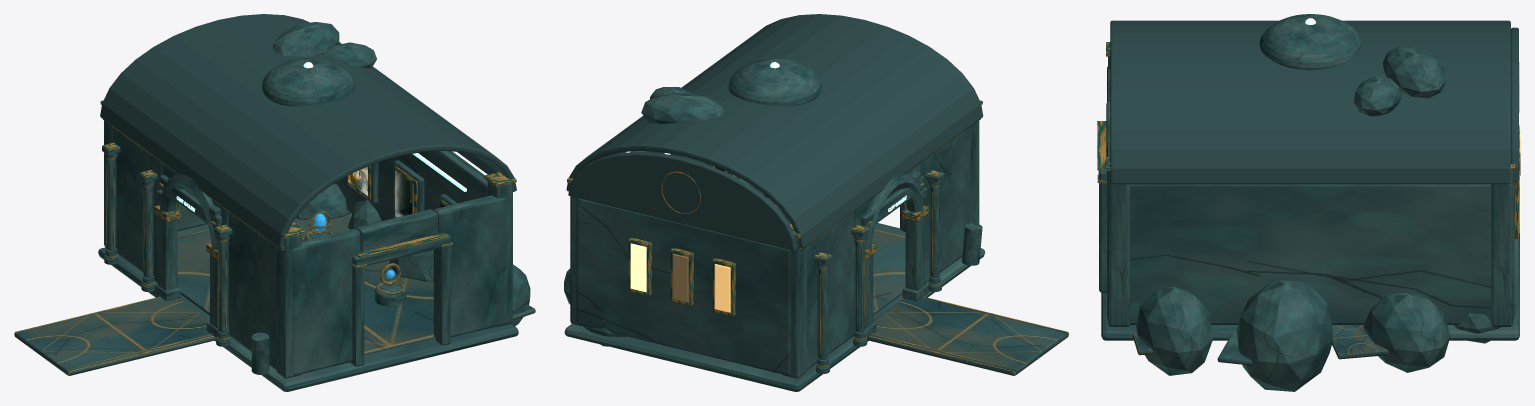
File: atlantis-cliff-gallery.glb
3 renders of one model, left to right at view 1: azimuth 30°, elevation 25°; view 2: azimuth 150°, elevation 25°; view 3: azimuth 270°, elevation 25°, orthographic. The views are drawn at different scales.
Parts seen in each view (by area): view 1: CliffGallery_BarrelRoof, CliffGallery_Bridge, CliffGallery_RearWallSegment_0, CliffGallery_RearWallSegment_1, CliffGallery_InteriorFloor, CliffGallery_FacadePier_0, CliffGallery_Foundation, CliffGallery_RearWall, CliffGallery_FacadePier_1, CliffGallery_LanternDome, ColumnShaft_mesh (×3), CliffGallery_CornerButtress_00 (+20 smaller); view 2: CliffGallery_BarrelRoof, CliffGallery_SideWall_1, CliffGallery_NorthTympanum, CliffGallery_Bridge, CliffGallery_Foundation, CliffGallery_FacadePier_1, CliffGallery_FacadePier_0, CliffGallery_LanternDome, CliffGallery_InteriorFloor, ColumnShaft_mesh (×3), CliffGallery_CornerButtress_01, CliffGallery_RoofCollapseStone_A (+13 smaller); view 3: CliffGallery_BarrelRoof, CliffGallery_RearWall, CliffGallery_CliffOutcrop_01, CliffGallery_CliffOutcrop_00, CliffGallery_CliffOutcrop_02, CliffGallery_LanternDome, CliffGallery_CornerButtress_02, CliffGallery_CornerButtress_03, CliffGallery_RoofCollapseStone_A, CliffGallery_Foundation, CliffGallery_RoofCollapseStone_B, CliffGallery_BrokenTerraceSlab_02 (+5 smaller).
Boxes of the visible parts, x1=… form: CliffGallery_BarrelRoof: x1=100, y1=14, x2=516, y2=248; CliffGallery_Bridge: x1=14, y1=298, x2=216, y2=375; CliffGallery_RearWallSegment_0: x1=292, y1=229, x2=360, y2=375; CliffGallery_RearWallSegment_1: x1=433, y1=195, x2=506, y2=337; CliffGallery_InteriorFloor: x1=177, y1=214, x2=434, y2=355; CliffGallery_FacadePier_0: x1=228, y1=212, x2=276, y2=369; CliffGallery_Foundation: x1=98, y1=214, x2=518, y2=391; CliffGallery_RearWall: x1=334, y1=151, x2=487, y2=220; CliffGallery_FacadePier_1: x1=113, y1=127, x2=162, y2=283; CliffGallery_LanternDome: x1=262, y1=58, x2=354, y2=106; ColumnShaft_mesh (×3): x1=106, y1=158, x2=227, y2=332; CliffGallery_CornerButtress_00: x1=276, y1=235, x2=301, y2=378; CliffGallery_BarrelRoof: x1=566, y1=14, x2=983, y2=248; CliffGallery_SideWall_1: x1=576, y1=198, x2=790, y2=375; CliffGallery_NorthTympanum: x1=568, y1=152, x2=797, y2=250; CliffGallery_Bridge: x1=867, y1=298, x2=1068, y2=375; CliffGallery_Foundation: x1=564, y1=198, x2=985, y2=391; CliffGallery_FacadePier_1: x1=807, y1=212, x2=854, y2=369; CliffGallery_FacadePier_0: x1=920, y1=127, x2=970, y2=283; CliffGallery_LanternDome: x1=728, y1=58, x2=821, y2=106; CliffGallery_InteriorFloor: x1=775, y1=205, x2=905, y2=315; ColumnShaft_mesh (×3): x1=818, y1=186, x2=939, y2=359; CliffGallery_CornerButtress_01: x1=782, y1=238, x2=806, y2=378; CliffGallery_RoofCollapseStone_A: x1=641, y1=92, x2=724, y2=123; CliffGallery_BarrelRoof: x1=1110, y1=20, x2=1510, y2=184; CliffGallery_RearWall: x1=1130, y1=184, x2=1491, y2=324; CliffGallery_CliffOutcrop_01: x1=1236, y1=280, x2=1333, y2=391; CliffGallery_CliffOutcrop_00: x1=1136, y1=287, x2=1212, y2=375; CliffGallery_CliffOutcrop_02: x1=1363, y1=292, x2=1450, y2=372; CliffGallery_LanternDome: x1=1259, y1=14, x2=1361, y2=70; CliffGallery_CornerButtress_02: x1=1108, y1=171, x2=1130, y2=326; CliffGallery_CornerButtress_03: x1=1491, y1=171, x2=1512, y2=326; CliffGallery_RoofCollapseStone_A: x1=1382, y1=45, x2=1446, y2=98; CliffGallery_Foundation: x1=1101, y1=233, x2=1519, y2=340; CliffGallery_RoofCollapseStone_B: x1=1354, y1=76, x2=1401, y2=116; CliffGallery_BrokenTerraceSlab_02: x1=1332, y1=325, x2=1388, y2=359.
Bounding box in the file's own units: 15.82 × 9.02 × 11.63.
Materials: 18 (13 with a texture image).
